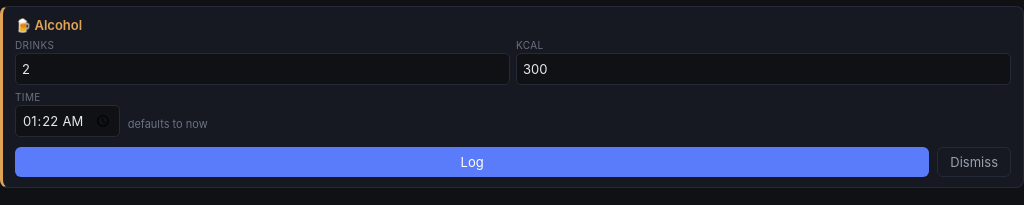
Test case: AlcoholCard › disables Log when kcal is blank
The image size is (1024, 205).
Clear the field with test id "alc-kcal" at (764, 69), box [516,53,1011,85]
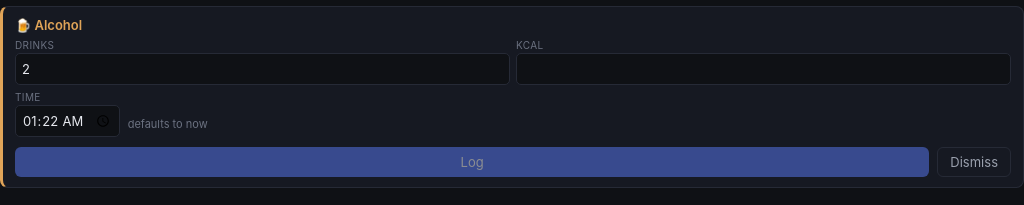
expect the button with test id "alc-log" is disabled: met, box [15,147,929,177]
